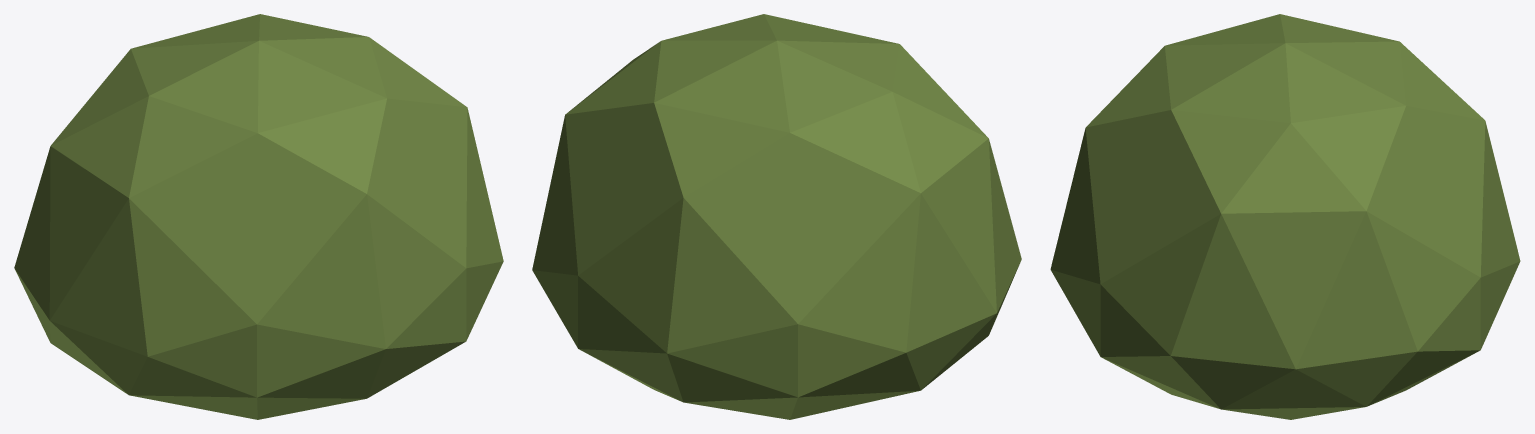
File: bush_green_2.glb
3 renders of one model, left to right at view 1: azimuth 30°, elevation 25°; view 2: azimuth 150°, elevation 25°; view 3: azimuth 270°, elevation 25°, orthographic.
Visible parts, largest first — view 1: Liurnia Bushes.003; view 2: Liurnia Bushes.003; view 3: Liurnia Bushes.003.
Boxes of the visible parts, x1,y1,x2,y2 form: Liurnia Bushes.003: (14,14,503,419); Liurnia Bushes.003: (532,14,1021,419); Liurnia Bushes.003: (1050,14,1520,419).
Size of the model in its own units: 0.0768 by 0.0585 by 0.0734.
